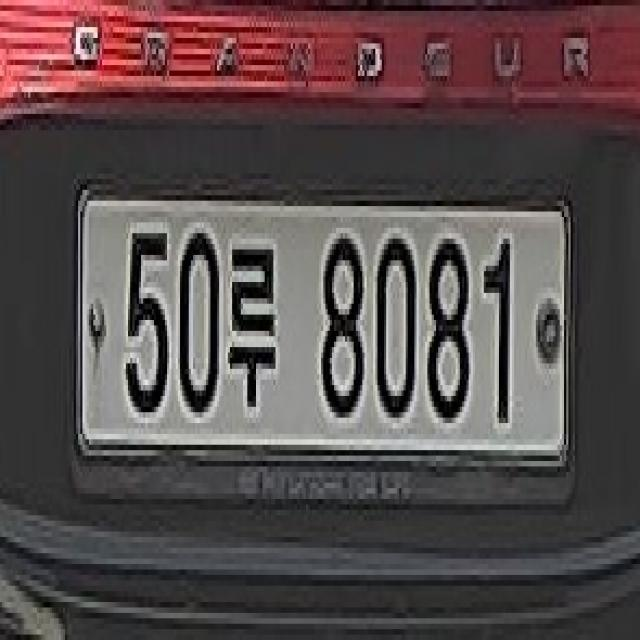0: (176, 216, 224, 420), (372, 233, 419, 429)
1: (480, 232, 515, 442)
5: (116, 212, 173, 420)
8: (426, 228, 474, 428), (318, 228, 366, 422)
license_plate: (58, 191, 592, 495)
lu: (228, 227, 288, 422)
